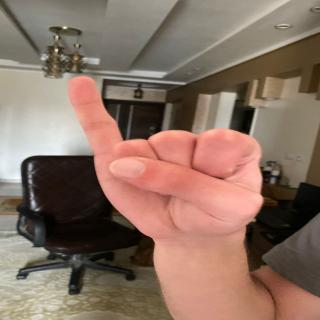MEEM: (50, 65, 279, 260)
